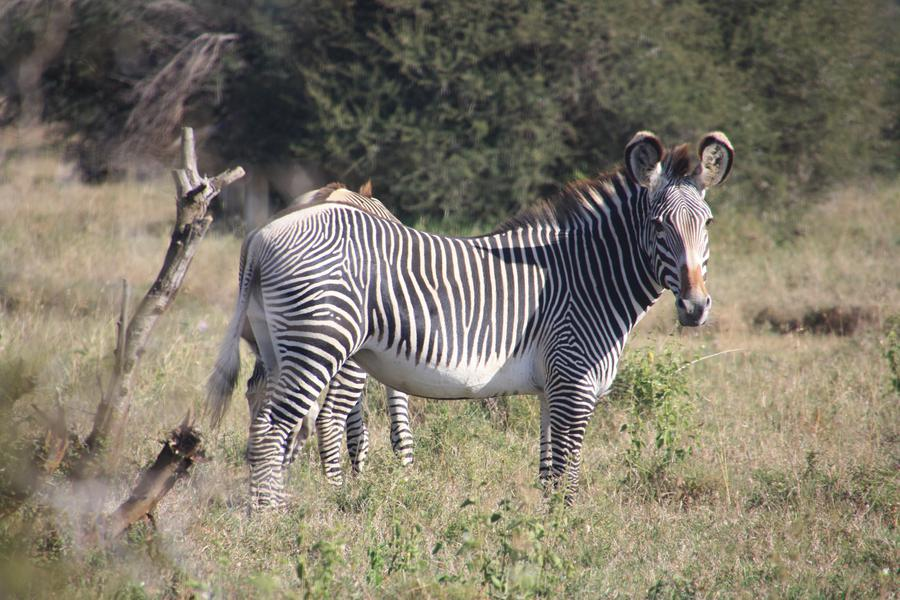zebra_grevys: (254, 200, 611, 393)
